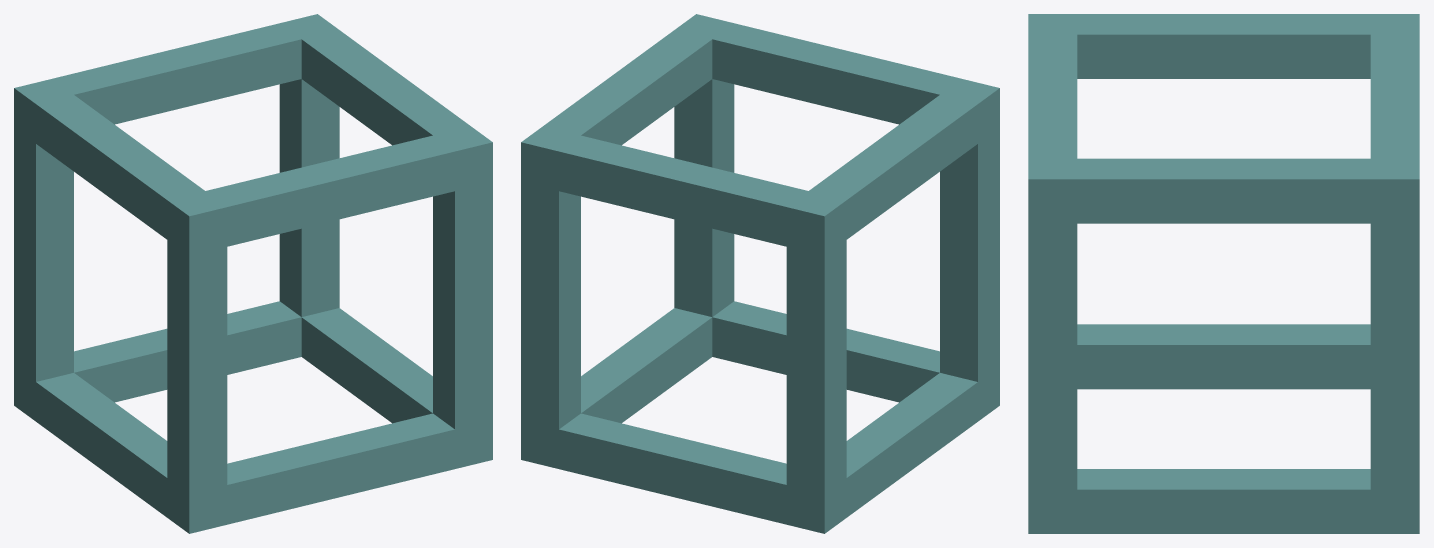
Rendered from cubo.obj.
3 views of the same model, side by side, from view 1: azimuth 30°, elevation 25°; view 2: azimuth 150°, elevation 25°; view 3: azimuth 270°, elevation 25° (orthographic). The views are drawn at different scales.
Parts seen in each view (by area): view 1: cubo; view 2: cubo; view 3: cubo.
Boxes of the visible parts, bbox=[...] form: cubo: bbox=[14, 14, 492, 533]; cubo: bbox=[521, 14, 999, 533]; cubo: bbox=[1028, 14, 1419, 533].
Size of the model in its own units: 8 by 8 by 8.
